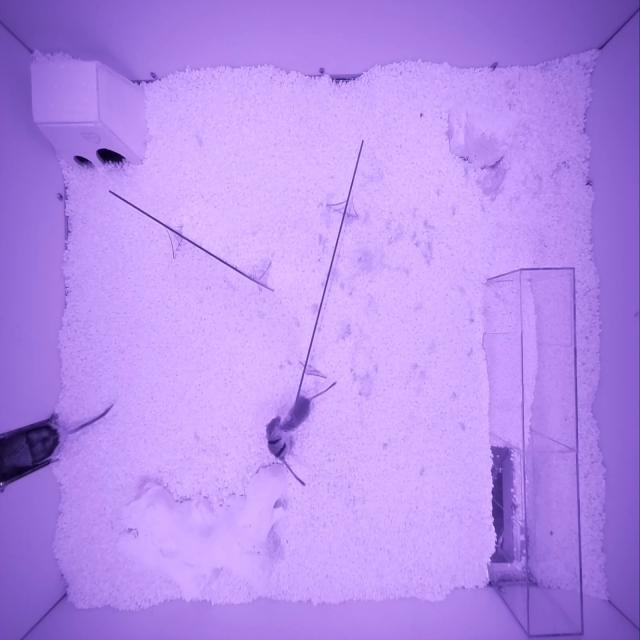adult_back: (0, 423, 67, 470)
pup_fluffy: (280, 396, 310, 433)
pup_h_stripe: (264, 415, 291, 461)
